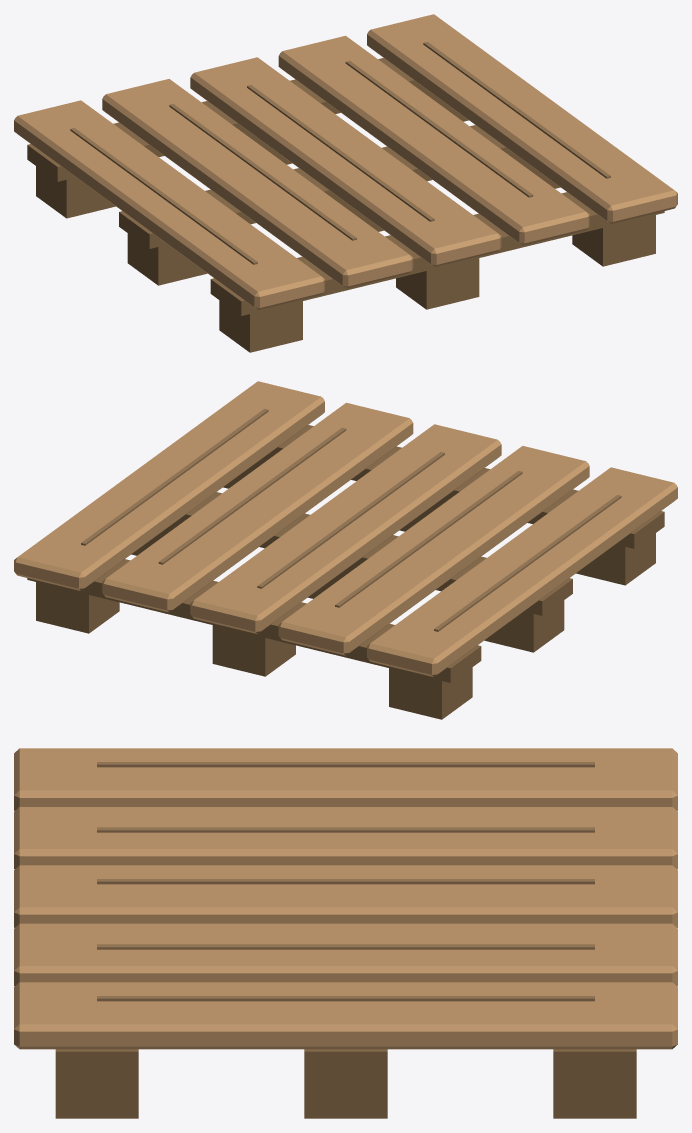
Rendered from pallet.glb.
3 renders of one model, top to bottom at view 1: azimuth 30°, elevation 25°; view 2: azimuth 150°, elevation 25°; view 3: azimuth 270°, elevation 25°, orthographic. The views are drawn at different scales.
Parts seen in each view (by area): view 1: pallet-m; view 2: pallet-m; view 3: pallet-m.
Part boxes in pixels (x1=…): pallet-m: x1=14, y1=14, x2=677, y2=352; pallet-m: x1=14, y1=381, x2=677, y2=719; pallet-m: x1=14, y1=748, x2=677, y2=1118.
Bounding box in the file's own units: 1.2 × 0.2 × 1.2.
